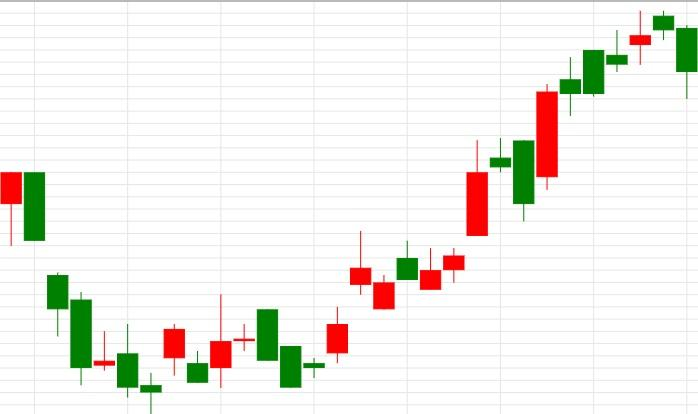bearish_engulfing_fall: (186, 294, 279, 388)
shooting_star_fall: (279, 231, 372, 388)
